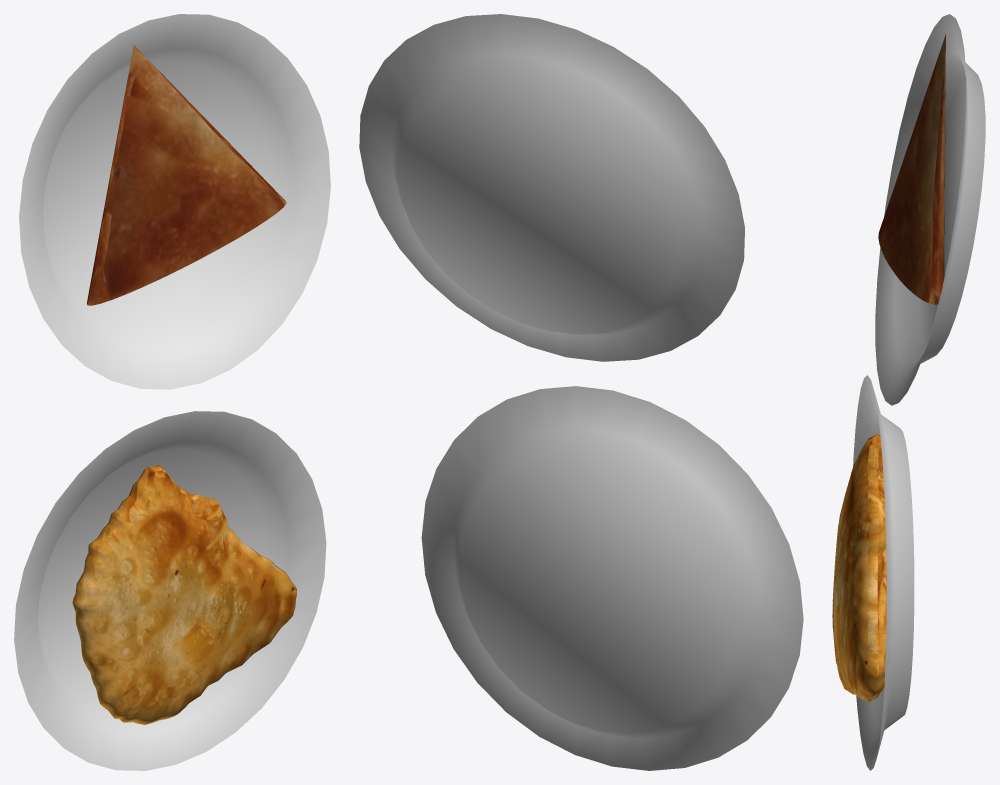
Rendered from samosa2.glb.
3 renders of one model, left to right at view 1: azimuth 30°, elevation 25°; view 2: azimuth 150°, elevation 25°; view 3: azimuth 270°, elevation 25°, orthographic. The views are drawn at different scales.
Parts seen in each view (by area): view 1: Circle.004, Circle.003, Plane.002, Cone.001; view 2: Circle.003, Circle.004; view 3: Circle.004, Plane.002, Circle.003, Cone.001.
Part boxes in pixels (left/top/right/bottom): Circle.004: left=19, top=14, right=330, bottom=389; Circle.003: left=14, top=411, right=326, bottom=770; Plane.002: left=72, top=465, right=296, bottom=724; Cone.001: left=87, top=45, right=286, bottom=305; Circle.003: left=421, top=386, right=803, bottom=770; Circle.004: left=359, top=14, right=744, bottom=361; Circle.004: left=875, top=14, right=985, bottom=405; Plane.002: left=832, top=434, right=886, bottom=701; Circle.003: left=853, top=375, right=914, bottom=770; Cone.001: left=878, top=34, right=945, bottom=304.
Bounding box in the file's own units: 3.14 × 5.91 × 1.12.
Materials: 4 (2 with a texture image).
